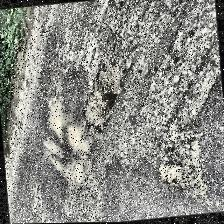pothole: (75, 50, 129, 136)
